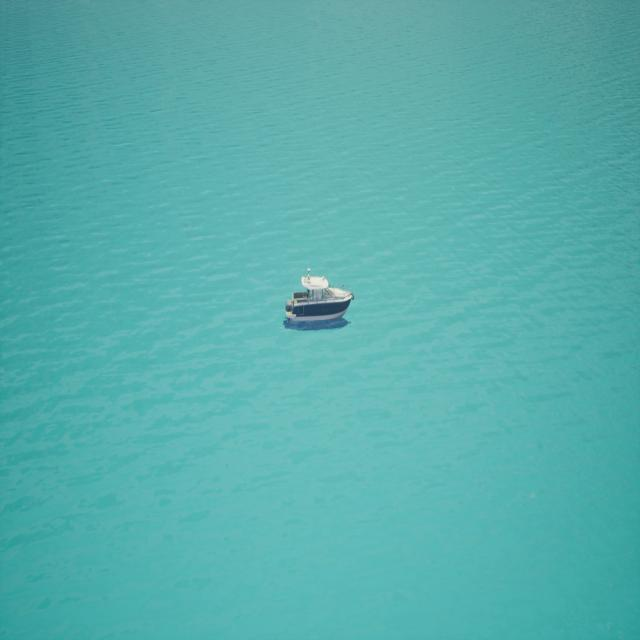ship: (282, 266, 354, 327)
